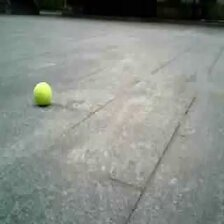tennis: (34, 82, 52, 105)
